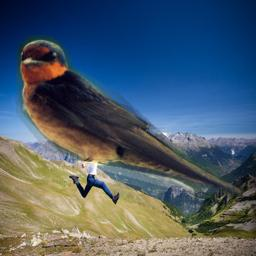Swallow: (16, 35, 243, 197)
